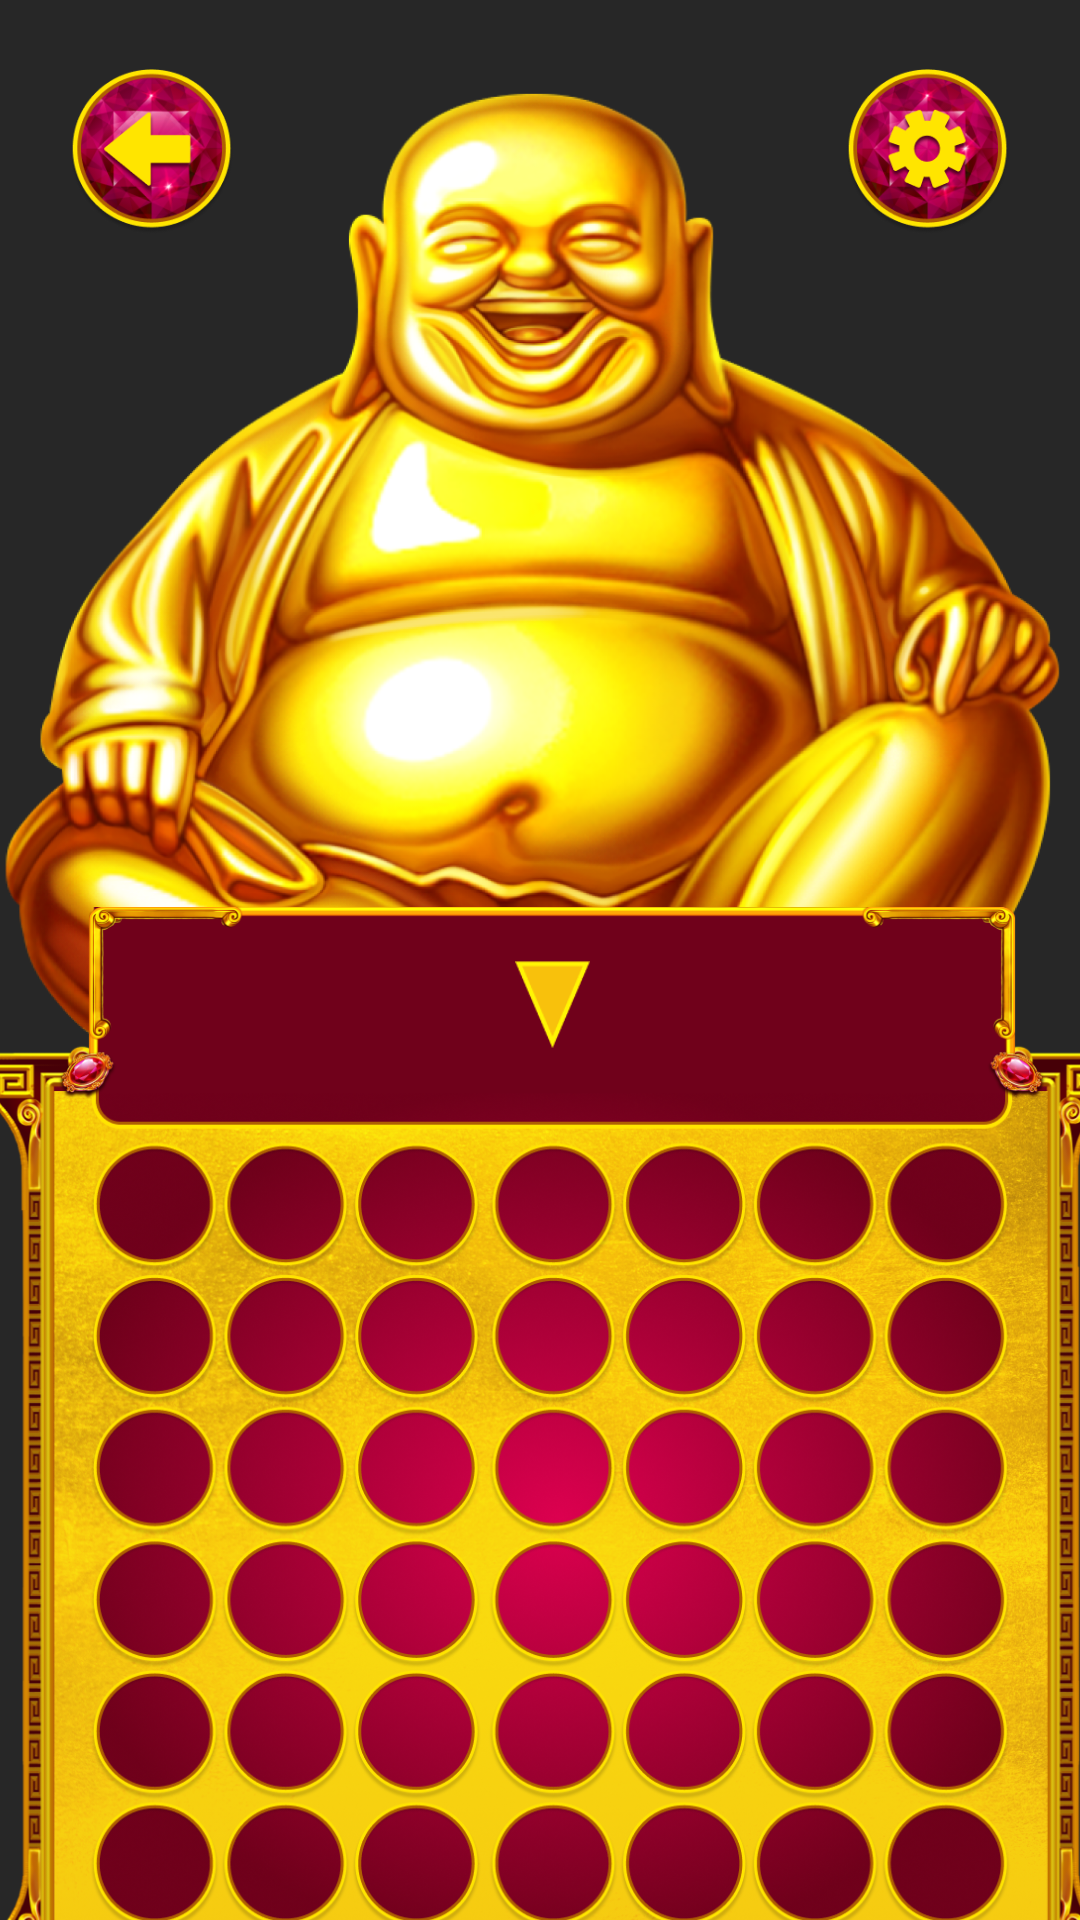

Named icons in this screenshot (1080 × 1920) and their centers, (x=x, y=y):
back: (x=151, y=148)
settings: (x=927, y=148)
